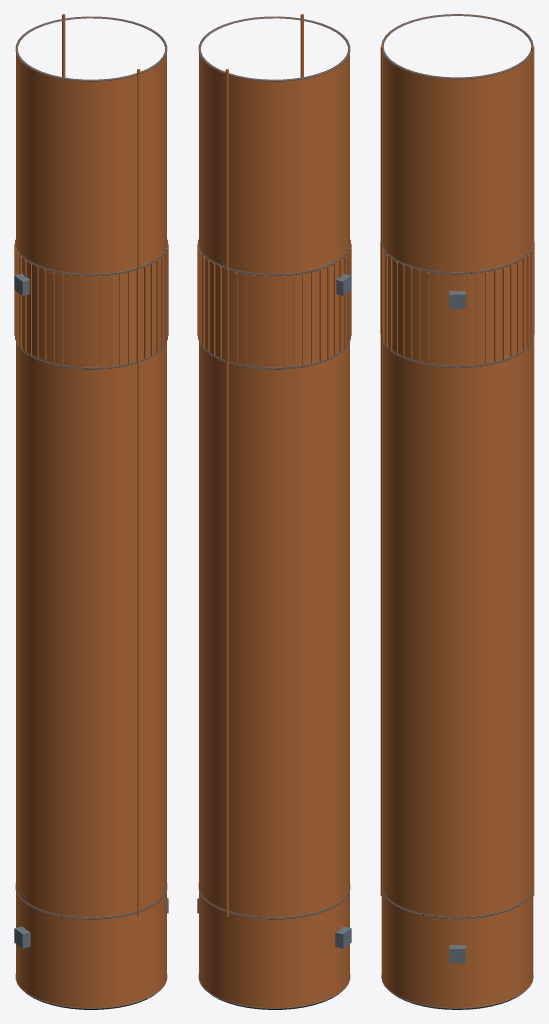
File: sls_core_tank_section.glb
3 views of the same model, side by side, from view 1: azimuth 30°, elevation 25°; view 2: azimuth 150°, elevation 25°; view 3: azimuth 270°, elevation 25° (orthographic).
Parts seen in each view (by area): view 1: sls_corelh2_skinmesh_Spray-on_insulation, sls_corelox_skinmesh_Spray-on_insulation, sls_coreintertankmesh_Spray-on_insulation, sls_coreengine_sectionmesh_Spray-on_insulation, sls_coremesh_Spray-on_insulation, sls_corelox_skinmesh_Heat-stained_alloy, sls_coremesh_Machined_steel, sls_corelh2_skinmesh_Heat-stained_alloy, sls_coreengine_sectionmesh_Heat-stained_alloy, sls_coreintertankmesh_Heat-stained_alloy; view 2: sls_corelh2_skinmesh_Spray-on_insulation, sls_corelox_skinmesh_Spray-on_insulation, sls_coreintertankmesh_Spray-on_insulation, sls_coreengine_sectionmesh_Spray-on_insulation, sls_coremesh_Spray-on_insulation, sls_corelox_skinmesh_Heat-stained_alloy, sls_coremesh_Machined_steel, sls_corelh2_skinmesh_Heat-stained_alloy, sls_coreengine_sectionmesh_Heat-stained_alloy, sls_coreintertankmesh_Heat-stained_alloy; view 3: sls_corelh2_skinmesh_Spray-on_insulation, sls_corelox_skinmesh_Spray-on_insulation, sls_coreintertankmesh_Spray-on_insulation, sls_coreengine_sectionmesh_Spray-on_insulation, sls_coremesh_Spray-on_insulation, sls_corelox_skinmesh_Heat-stained_alloy, sls_coremesh_Machined_steel, sls_coreengine_sectionmesh_Heat-stained_alloy, sls_corelh2_skinmesh_Heat-stained_alloy, sls_coreintertankmesh_Heat-stained_alloy.
Part boxes in pixels (x1,y1,x2,y2): sls_corelh2_skinmesh_Spray-on_insulation: (16,341,166,917); sls_corelox_skinmesh_Spray-on_insulation: (16,53,166,274); sls_coreintertankmesh_Spray-on_insulation: (14,239,168,368); sls_coreengine_sectionmesh_Spray-on_insulation: (16,891,166,1007); sls_coremesh_Spray-on_insulation: (62,14,140,916); sls_corelox_skinmesh_Heat-stained_alloy: (15,16,167,275); sls_coremesh_Machined_steel: (14,273,168,948); sls_corelh2_skinmesh_Heat-stained_alloy: (15,340,167,918); sls_coreengine_sectionmesh_Heat-stained_alloy: (15,889,167,1008); sls_coreintertankmesh_Heat-stained_alloy: (15,245,167,368); sls_corelh2_skinmesh_Spray-on_insulation: (199,341,349,917); sls_corelox_skinmesh_Spray-on_insulation: (199,53,349,274); sls_coreintertankmesh_Spray-on_insulation: (197,239,351,368); sls_coreengine_sectionmesh_Spray-on_insulation: (199,891,349,1007); sls_coremesh_Spray-on_insulation: (225,14,303,916); sls_corelox_skinmesh_Heat-stained_alloy: (198,16,350,275); sls_coremesh_Machined_steel: (197,273,351,948); sls_corelh2_skinmesh_Heat-stained_alloy: (198,340,350,918); sls_coreengine_sectionmesh_Heat-stained_alloy: (198,889,350,1008); sls_coreintertankmesh_Heat-stained_alloy: (198,245,350,368); sls_corelh2_skinmesh_Spray-on_insulation: (382,342,532,917); sls_corelox_skinmesh_Spray-on_insulation: (382,53,532,272); sls_coreintertankmesh_Spray-on_insulation: (380,242,534,366); sls_coreengine_sectionmesh_Spray-on_insulation: (381,893,533,1007); sls_coremesh_Spray-on_insulation: (380,46,534,896); sls_corelox_skinmesh_Heat-stained_alloy: (381,14,533,273); sls_coremesh_Machined_steel: (449,290,465,963); sls_coreengine_sectionmesh_Heat-stained_alloy: (381,892,533,1008); sls_corelh2_skinmesh_Heat-stained_alloy: (382,340,532,918); sls_coreintertankmesh_Heat-stained_alloy: (382,247,532,366).
Bounding box in the file's own units: 9.35 × 57.25 × 8.56.
